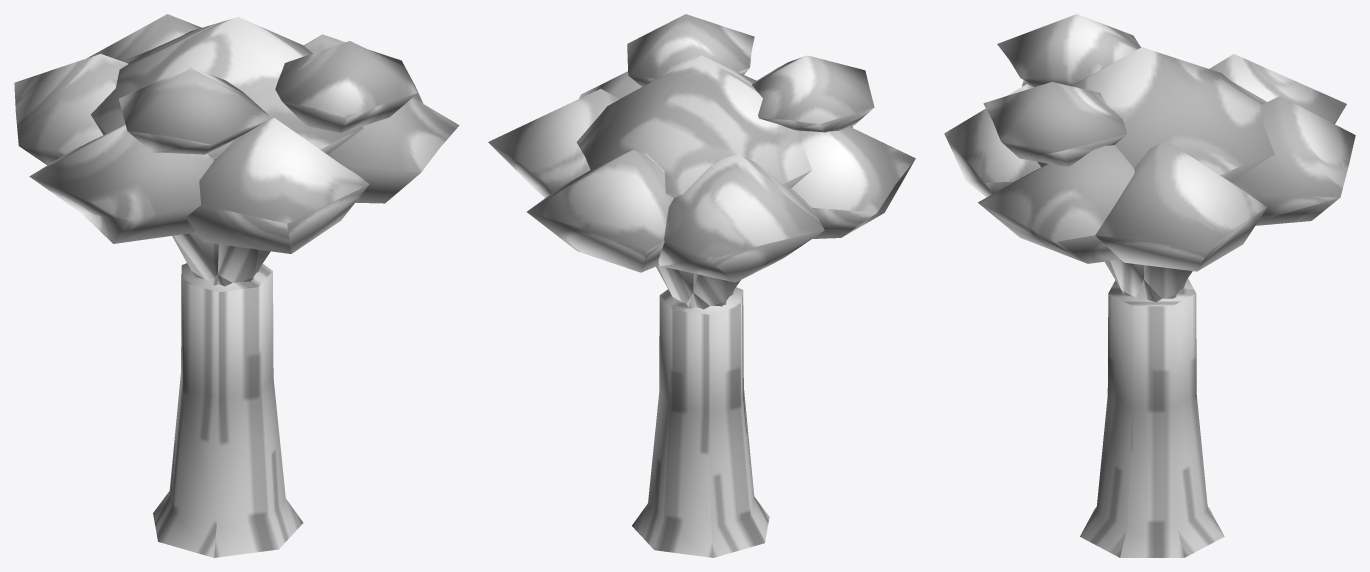
Rendered from tree_drago.obj.
The picture shows the model from 3 angles, left to right: view 1: azimuth 30°, elevation 25°; view 2: azimuth 150°, elevation 25°; view 3: azimuth 270°, elevation 25°; orthographic projection. The views are drawn at different scales.
Parts seen in each view (by area): view 1: source_component_000, source_component_015, source_component_010, source_component_031, source_component_033, source_component_032, source_component_005, source_component_020, source_component_030, source_component_006, source_component_011, source_component_025; view 2: source_component_000, source_component_031, source_component_005, source_component_030, source_component_010, source_component_032, source_component_025, source_component_033, source_component_026, source_component_001, source_component_020; view 3: source_component_000, source_component_031, source_component_025, source_component_020, source_component_030, source_component_033, source_component_032, source_component_015, source_component_005, source_component_021, source_component_016.
Part boxes in pixels (<box>): source_component_000: <box>153,263,303,557</box>; source_component_015: <box>186,117,369,253</box>; source_component_010: <box>29,125,213,243</box>; source_component_031: <box>90,17,363,159</box>; source_component_033: <box>275,41,417,132</box>; source_component_032: <box>119,67,271,154</box>; source_component_005: <box>14,54,128,165</box>; source_component_020: <box>328,97,459,203</box>; source_component_030: <box>87,14,201,61</box>; source_component_006: <box>174,232,231,286</box>; source_component_011: <box>210,244,258,285</box>; source_component_025: <box>304,34,423,103</box>; source_component_000: <box>632,287,769,557</box>; source_component_031: <box>576,55,811,197</box>; source_component_005: <box>658,154,824,282</box>; source_component_030: <box>527,150,673,272</box>; source_component_010: <box>791,127,915,238</box>; source_component_032: <box>752,55,874,132</box>; source_component_025: <box>488,88,619,197</box>; source_component_033: <box>627,14,754,86</box>; source_component_026: <box>658,265,709,309</box>; source_component_001: <box>686,273,727,307</box>; source_component_020: <box>579,71,642,98</box>; source_component_000: <box>1080,278,1224,557</box>; source_component_031: <box>1037,47,1274,181</box>; source_component_025: <box>1095,140,1266,271</box>; source_component_020: <box>978,145,1134,263</box>; source_component_030: <box>1231,96,1355,225</box>; source_component_033: <box>983,82,1127,166</box>; source_component_032: <box>997,14,1140,86</box>; source_component_015: <box>944,84,1040,197</box>; source_component_005: <box>1209,54,1346,124</box>; source_component_021: <box>1135,265,1178,300</box>; source_component_016: <box>1110,259,1161,302</box>.
Bounding box in the file's own units: 0.8254 × 1.01 × 0.7754.
